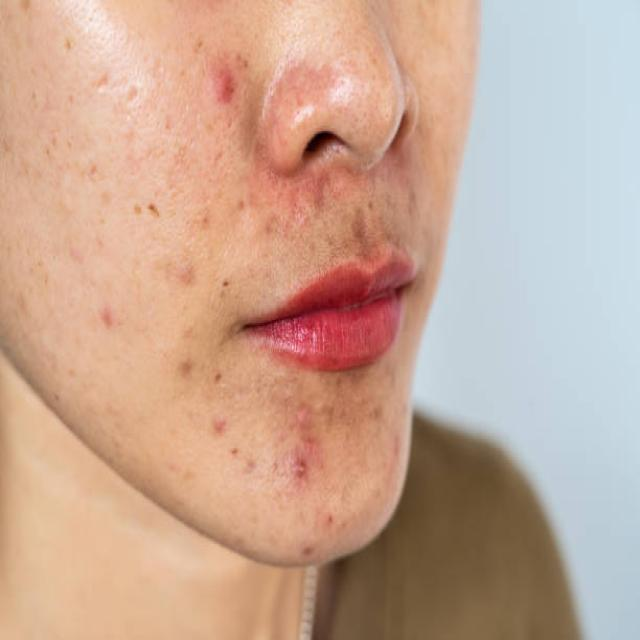dry: (228, 284, 368, 556), (326, 64, 454, 295), (178, 37, 268, 281), (131, 268, 206, 456), (46, 98, 104, 335), (21, 40, 77, 140), (120, 76, 138, 281)
